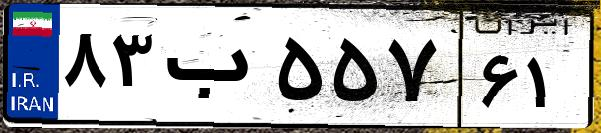1: (525, 38, 570, 115)
3: (110, 28, 158, 98)
5: (270, 28, 330, 110), (330, 28, 385, 110)
6: (475, 38, 525, 113)
7: (385, 28, 445, 110)
8: (57, 26, 110, 100)
ب: (158, 20, 270, 120)
